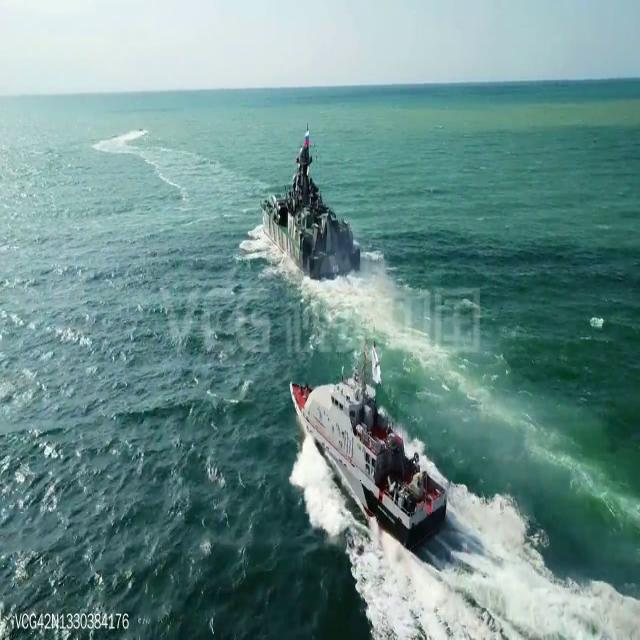houseboat: (288, 369, 448, 538), (259, 135, 362, 284)
